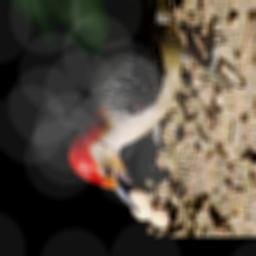Woodpecker: (68, 0, 251, 211)
